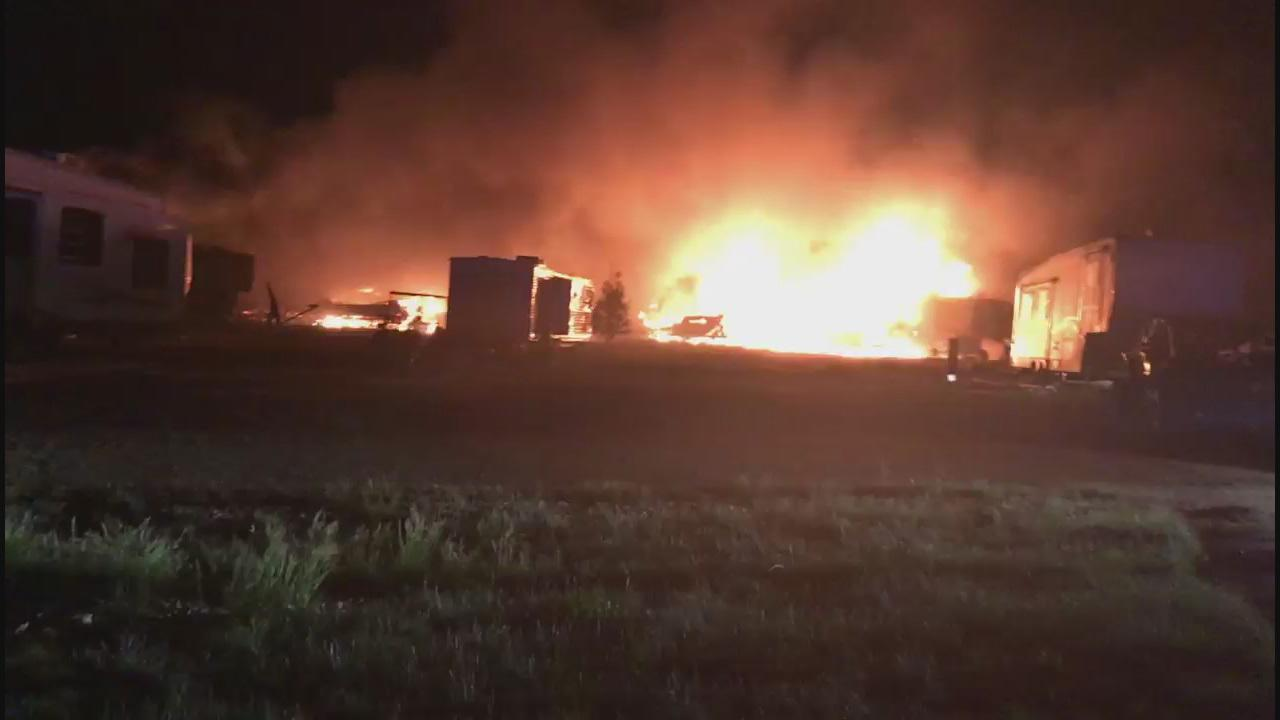Fire: (638, 198, 968, 362)
